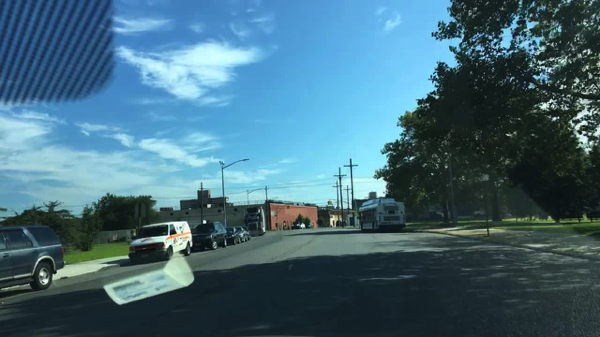bus: (357, 198, 405, 233)
car: (0, 224, 64, 291), (191, 223, 226, 249), (224, 226, 241, 245), (236, 226, 249, 242), (242, 226, 251, 240), (290, 221, 304, 229), (304, 221, 315, 229), (340, 220, 349, 227), (335, 220, 341, 228)
truck: (128, 220, 193, 264), (243, 206, 266, 237), (407, 204, 442, 221)
